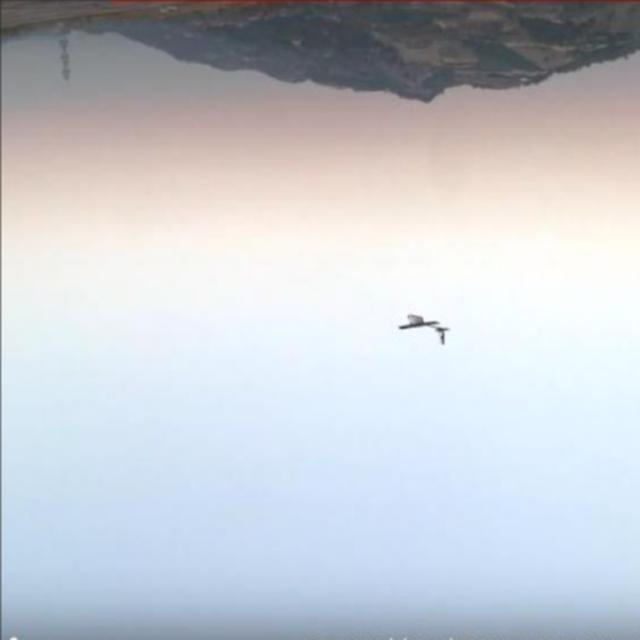plane: (396, 313, 450, 346)
